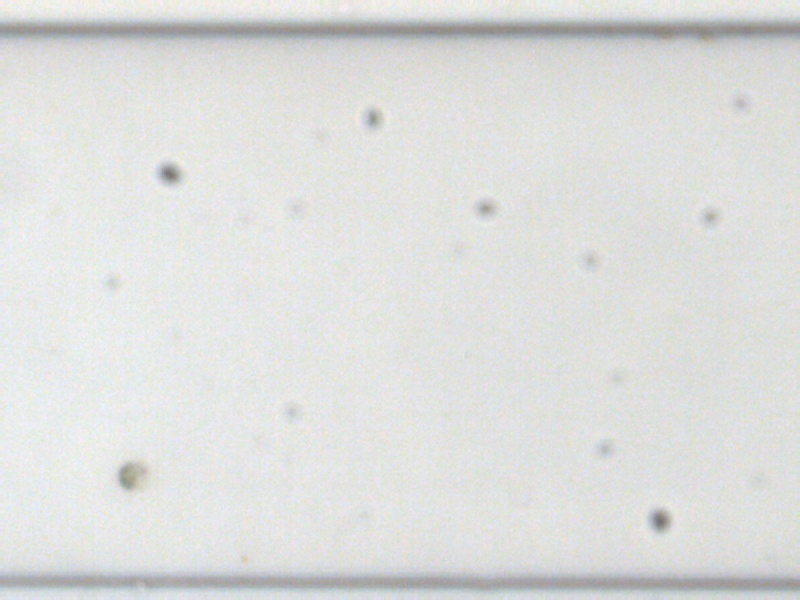Dunaliella salina: (117, 462, 148, 489)
